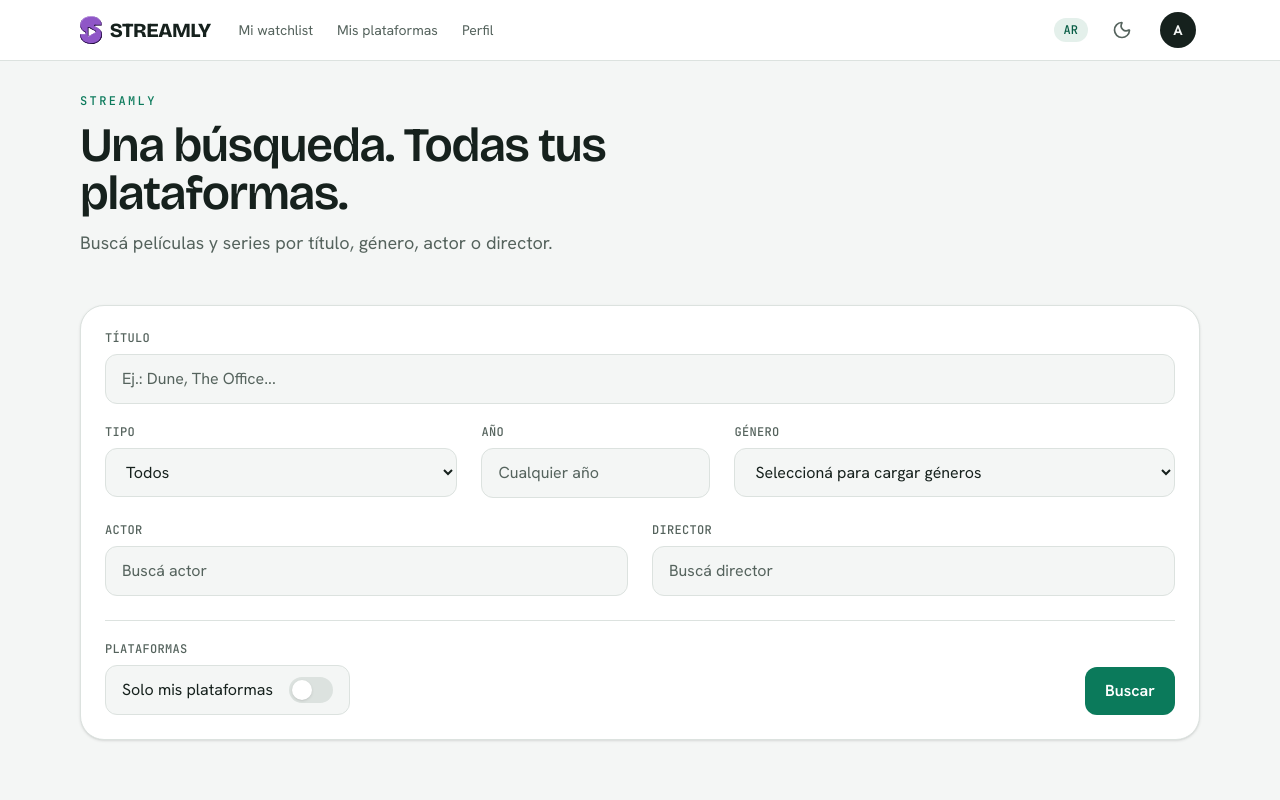
Test: Menú de la cuenta del header › ofrece Perfil y Cerrar sesión, y Cerrar sesión ya no está suelto en el header
Check: the button "Cerrar sesión" is not shown
Click the button named "Menú de la cuenta de ana@mail.com": (1178, 30) [1156,8,1200,52]
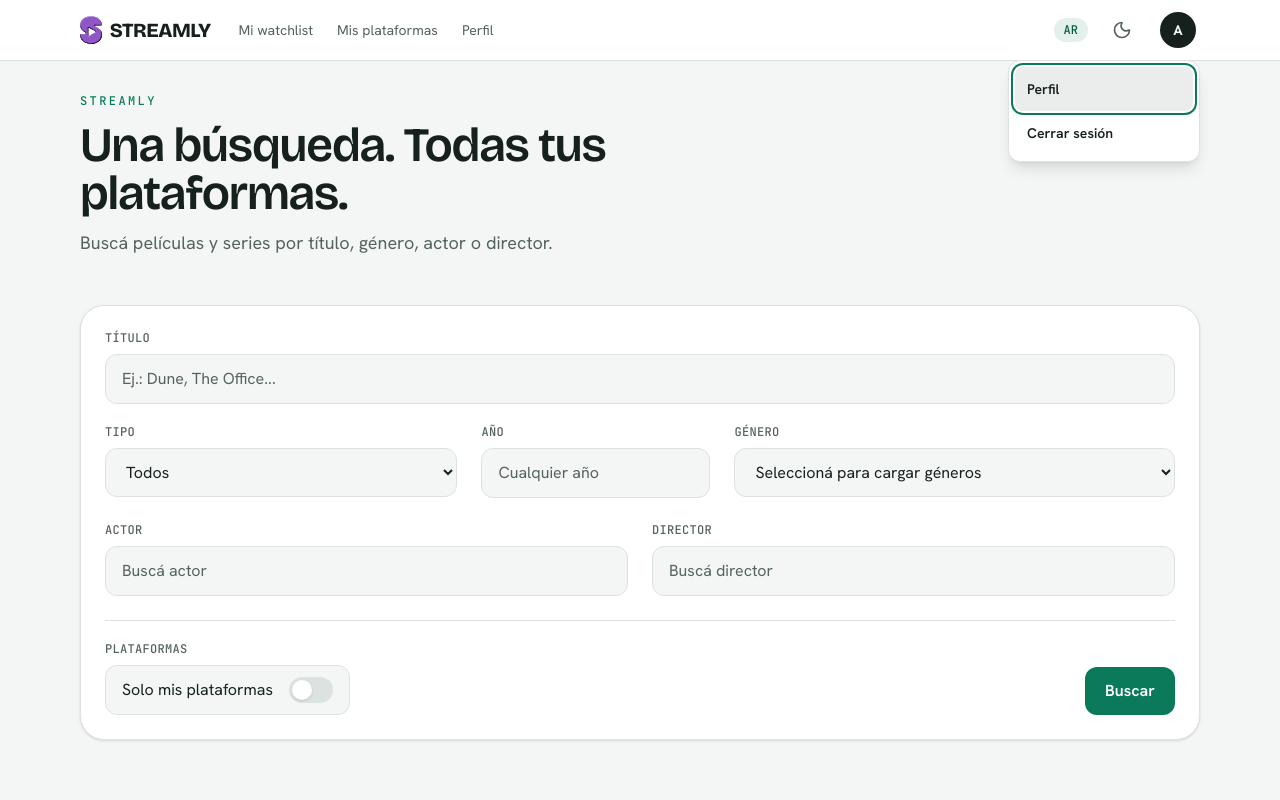
Check: the menu item "Cerrar sesión" is shown, box [1015,111,1193,155]
